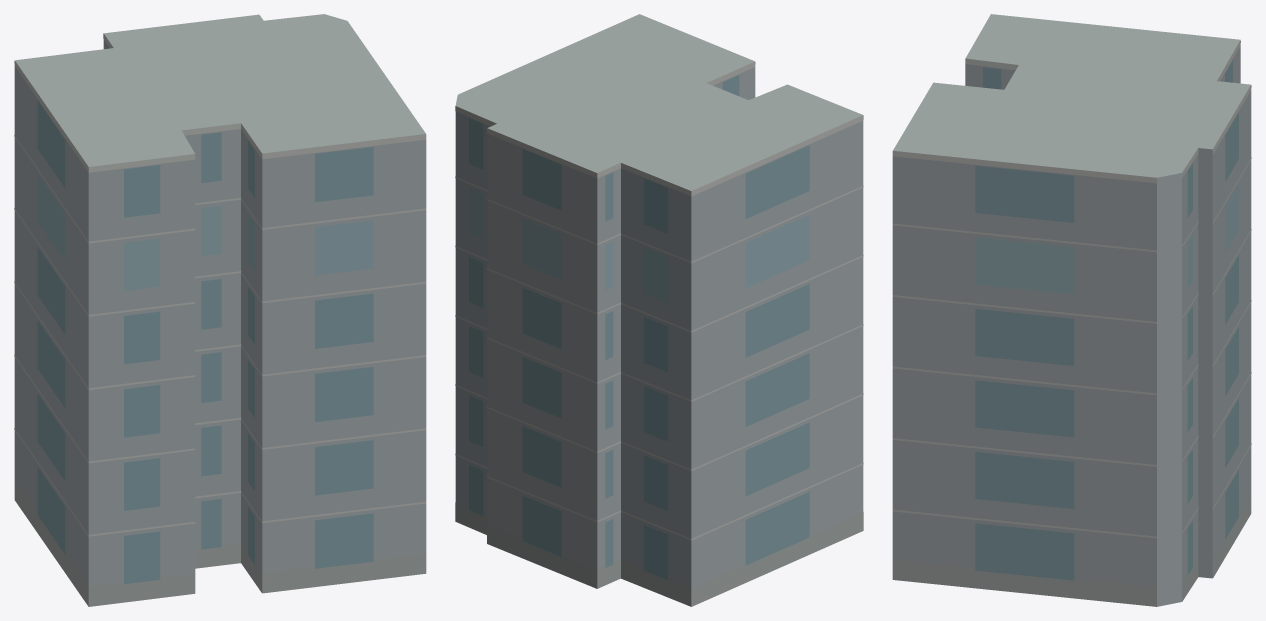
The model's file is survey-upis-32517604.glb.
3 views of the same model, side by side, from view 1: azimuth 30°, elevation 25°; view 2: azimuth 150°, elevation 25°; view 3: azimuth 270°, elevation 25° (orthographic). The views are drawn at different scales.
Visible parts, largest first — view 1: survey-upis-32517604.tmp; view 2: survey-upis-32517604.tmp; view 3: survey-upis-32517604.tmp.
Part boxes in pixels (x1,y1,x2,y2): survey-upis-32517604.tmp: (14,14,426,606); survey-upis-32517604.tmp: (455,14,863,606); survey-upis-32517604.tmp: (892,14,1251,606).
Size of the model in its own units: 15.41 by 18.8 by 14.26.
